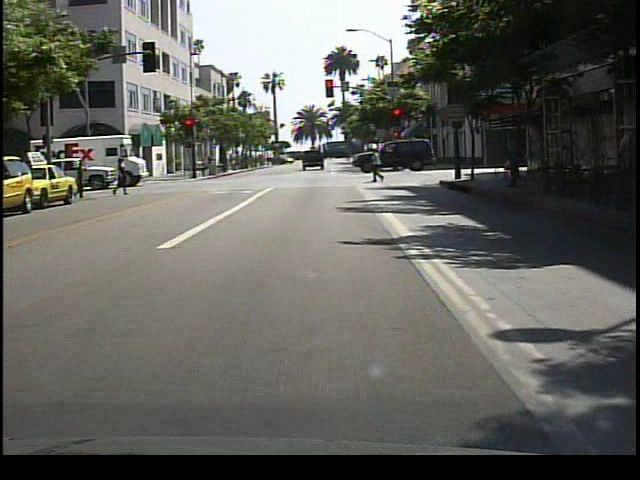person: (501, 137, 527, 188), (71, 154, 93, 201), (112, 157, 131, 199), (368, 147, 389, 182)
